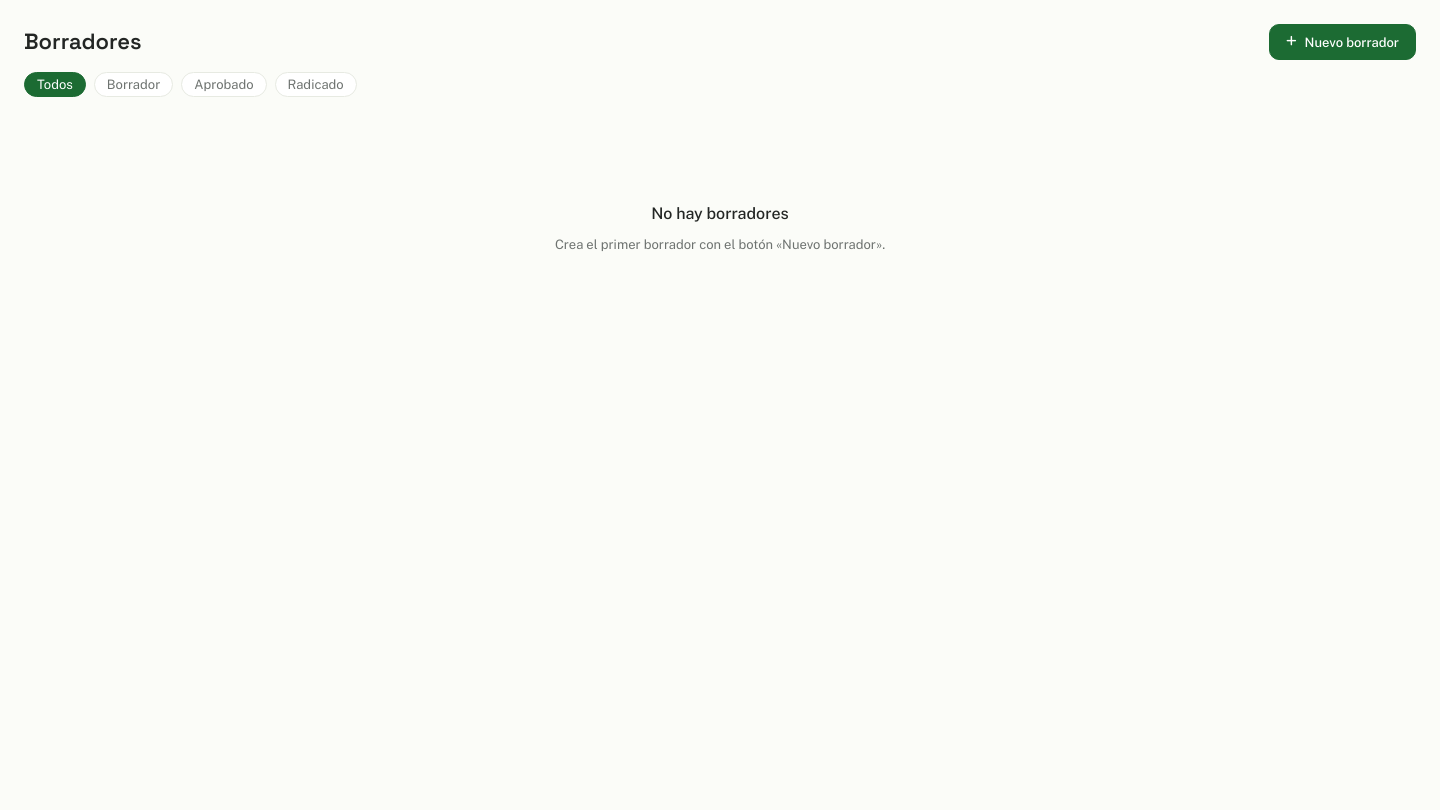
vistas — el botón obedece a generationAvailable › borradores con generación: se ofrece sugerir (control positivo)
This screenshot has width=1440, height=810.
Step 1. Click the button named "Nuevo borrador" → (1343, 42), box x1=1269 y1=24 x2=1416 y2=60
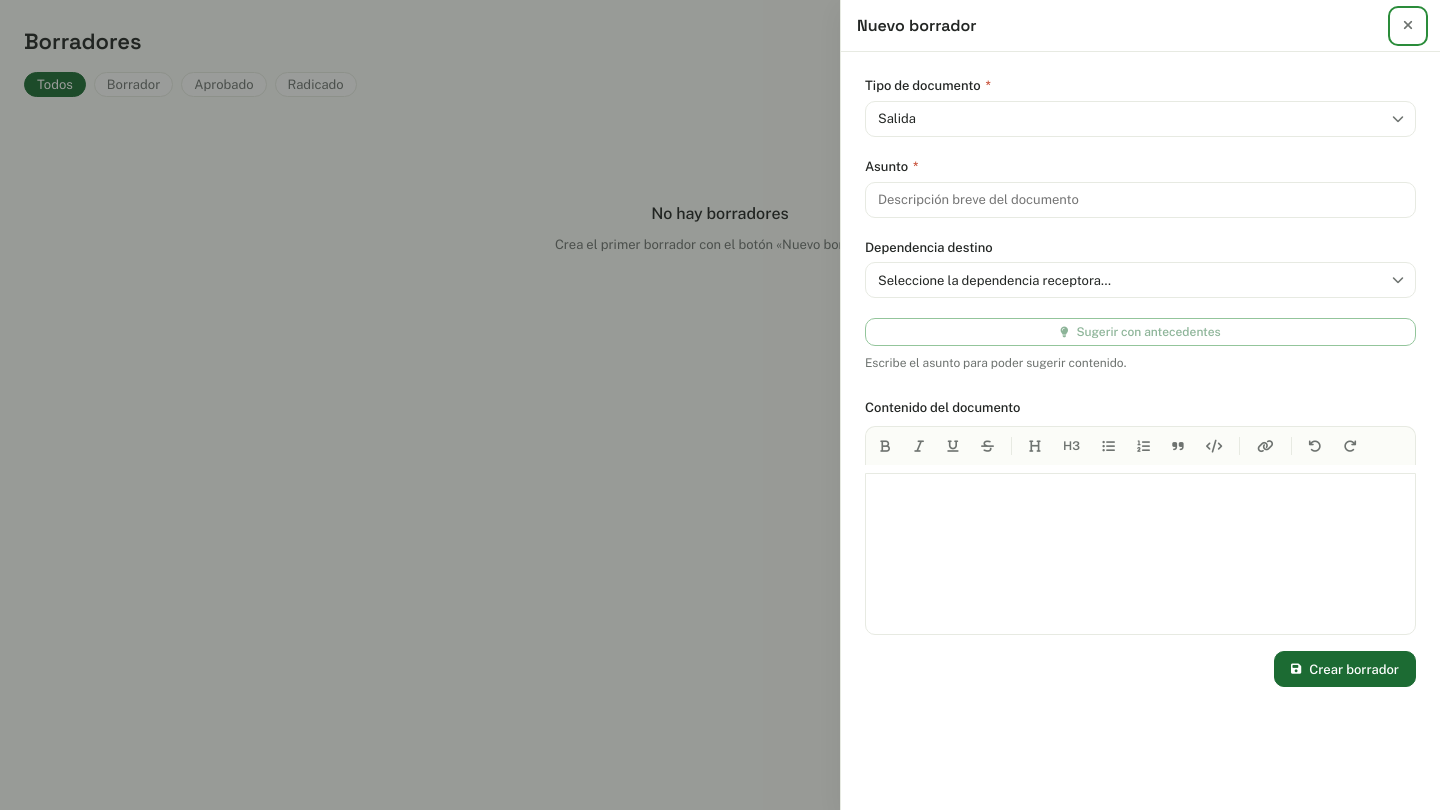
Expected: the dialog "Nuevo borrador" is shown, x1=840 y1=0 x2=1439 y2=809
Expected: the 1st button named "sugerir con antecedentes" is shown, x1=865 y1=318 x2=1416 y2=346
